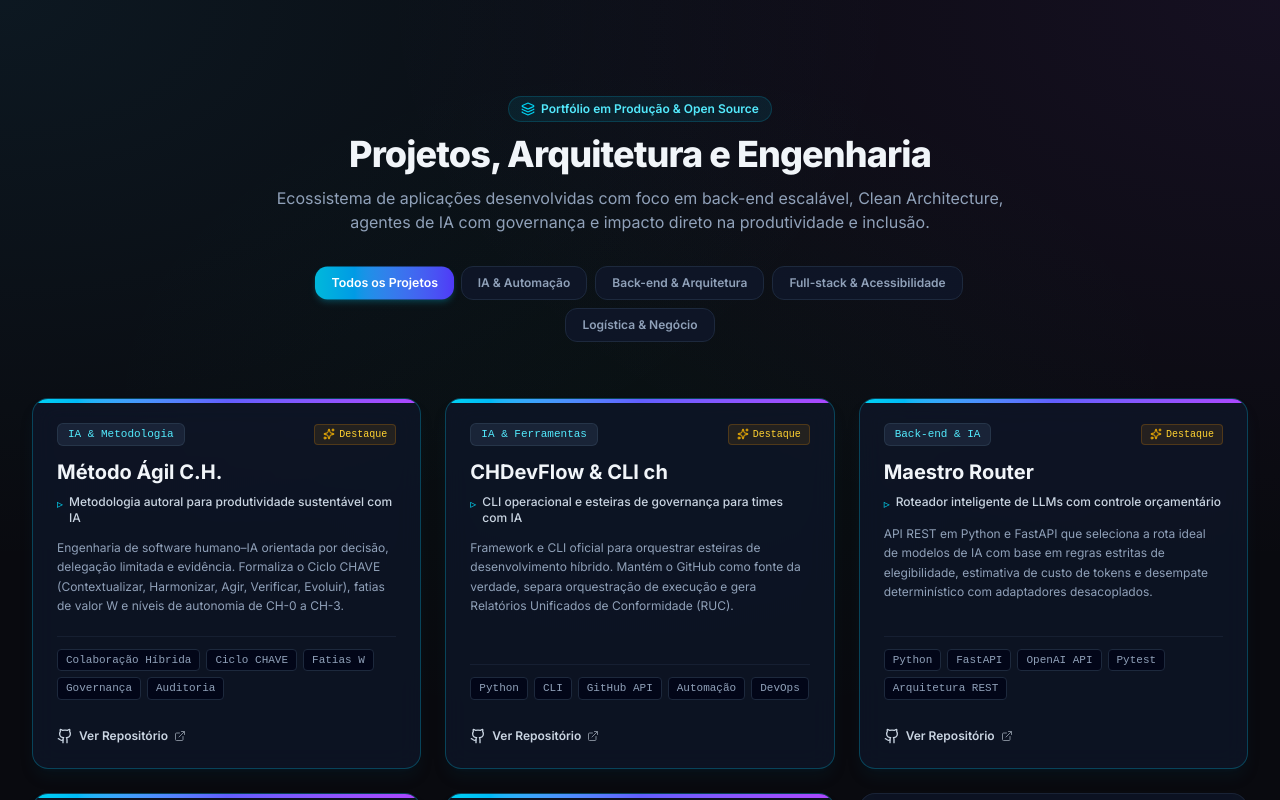
Scenario: ProjectsSection Component › filters projects dynamically when a category pill is clicked
What coordinates should you click on to do the following:
click the button "Back-end & Arquitetura"
I would click on:
 (680, 283)
Its box is x1=595 y1=266 x2=764 y2=300.
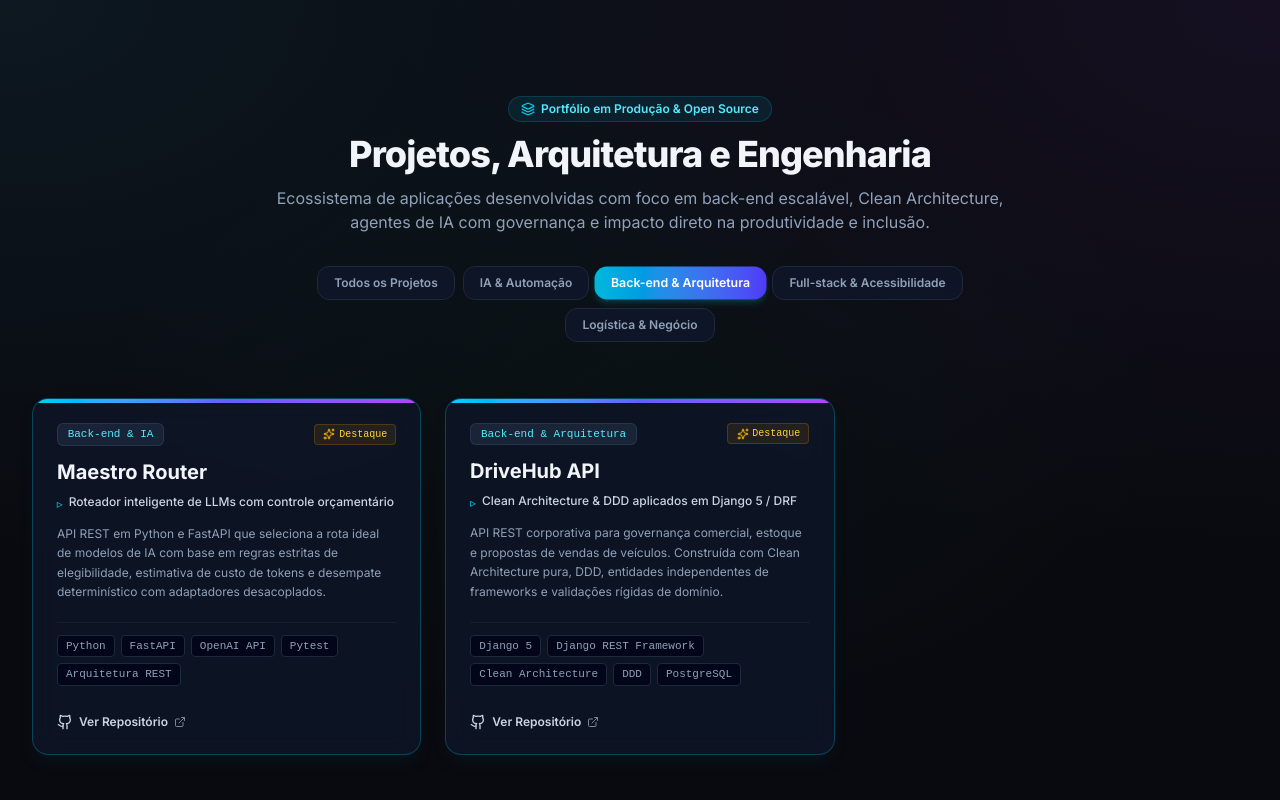
Expected: the heading "Maestro Router" is shown, x1=57 y1=460 x2=207 y2=484
Expected: the heading "DriveHub API" is shown, x1=470 y1=460 x2=600 y2=484
What coordinates should you click on to do the following:
click the button "Full-stack & Acessibilidade"
I would click on:
 (868, 283)
Its box is x1=772 y1=266 x2=963 y2=300.
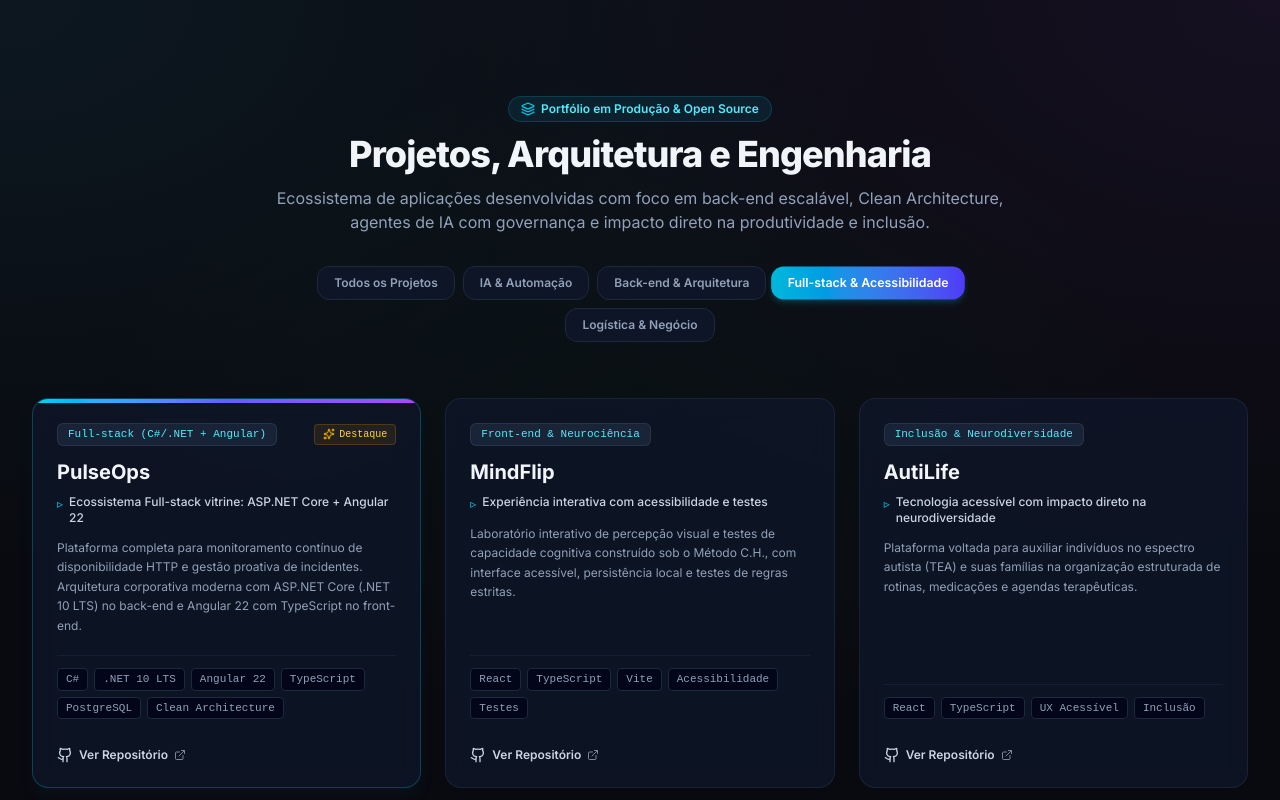
Now the heading "PulseOps" is shown, box x1=57 y1=460 x2=150 y2=484
Now the heading "DriveHub API" is gone
